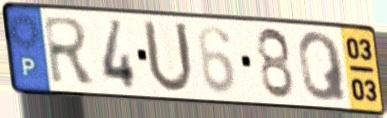4: (100, 17, 137, 92)
6: (195, 23, 239, 98)
8: (255, 25, 296, 102)
Q: (295, 30, 351, 104)
R: (41, 14, 99, 87)
U: (140, 16, 196, 97)
